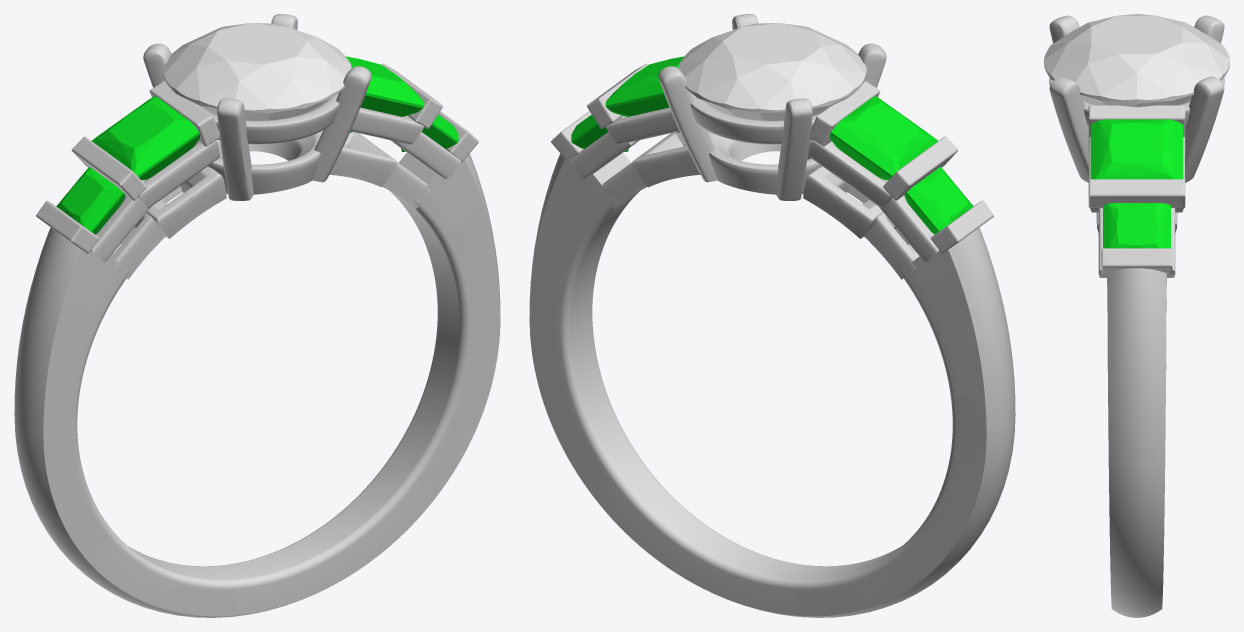
The model's file is Susan_Ryerson_1.glb.
3 views of the same model, side by side, from view 1: azimuth 30°, elevation 25°; view 2: azimuth 150°, elevation 25°; view 3: azimuth 270°, elevation 25° (orthographic).
Visible parts, largest first — view 1: Susan PT matte for 3d model, Susan dia for 3d model, Susan emeralds for 3d model.002, Susan emeralds for 3d model.003, Susan emeralds for 3d model, Susan emeralds for 3d model.001; view 2: Susan PT matte for 3d model, Susan dia for 3d model, Susan emeralds for 3d model.002, Susan emeralds for 3d model.003, Susan emeralds for 3d model, Susan emeralds for 3d model.001; view 3: Susan PT matte for 3d model, Susan dia for 3d model, Susan emeralds for 3d model, Susan emeralds for 3d model.001.
Boxes of the visible parts, <box> form: Susan PT matte for 3d model: <box>14,14,500,617</box>; Susan dia for 3d model: <box>163,23,351,120</box>; Susan emeralds for 3d model.002: <box>92,96,199,180</box>; Susan emeralds for 3d model.003: <box>56,167,125,234</box>; Susan emeralds for 3d model: <box>346,56,424,132</box>; Susan emeralds for 3d model.001: <box>401,114,458,151</box>; Susan PT matte for 3d model: <box>529,14,1015,617</box>; Susan dia for 3d model: <box>678,23,866,120</box>; Susan emeralds for 3d model.002: <box>830,96,937,180</box>; Susan emeralds for 3d model.003: <box>904,167,973,234</box>; Susan emeralds for 3d model: <box>605,56,683,132</box>; Susan emeralds for 3d model.001: <box>571,114,628,151</box>; Susan PT matte for 3d model: <box>1049,15,1224,617</box>; Susan dia for 3d model: <box>1044,14,1229,107</box>; Susan emeralds for 3d model: <box>1090,119,1183,179</box>; Susan emeralds for 3d model.001: <box>1103,203,1170,248</box>.
Size of the model in its own units: 21.94 by 24.97 by 7.55.
